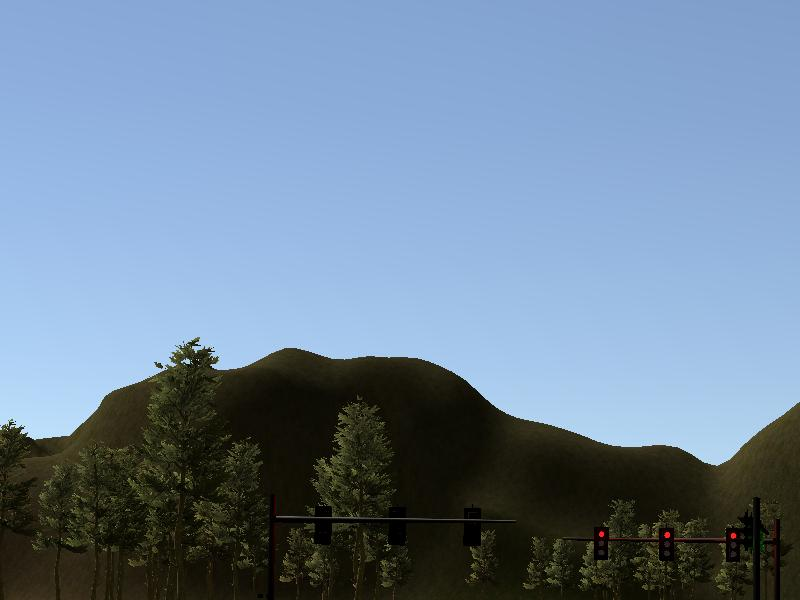Red: (658, 527, 676, 561), (593, 527, 610, 560), (727, 527, 741, 562)
